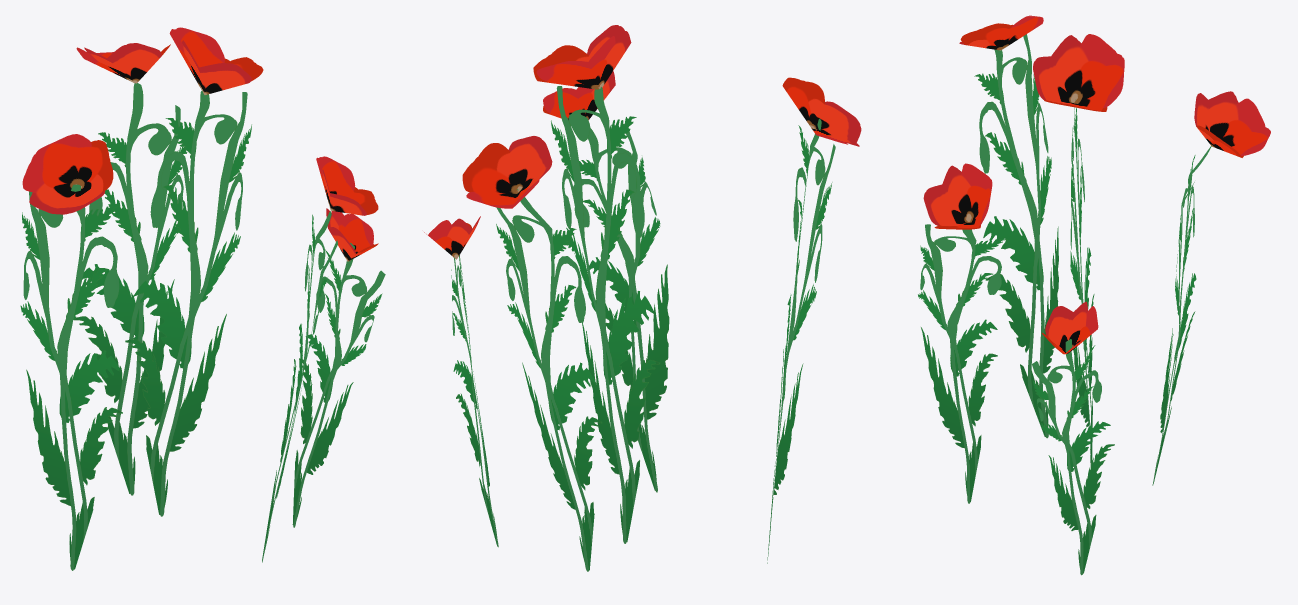
Rendered from PT_Poppy_02.fbx.
The picture shows the model from 3 angles, left to right: view 1: azimuth 30°, elevation 25°; view 2: azimuth 150°, elevation 25°; view 3: azimuth 270°, elevation 25°; orthographic projection. The views are drawn at different scales.
Parts seen in each view (by area): view 1: PT_Poppy_02_LOD0; view 2: PT_Poppy_02_LOD0; view 3: PT_Poppy_02_LOD0.
Part boxes in pixels (x1,y1,x2,y2): PT_Poppy_02_LOD0: (20, 27, 385, 570); PT_Poppy_02_LOD0: (424, 25, 861, 571); PT_Poppy_02_LOD0: (918, 15, 1270, 575).
Size of what is drawn, in the model's own units: 63.17 by 81.91 by 54.09.
